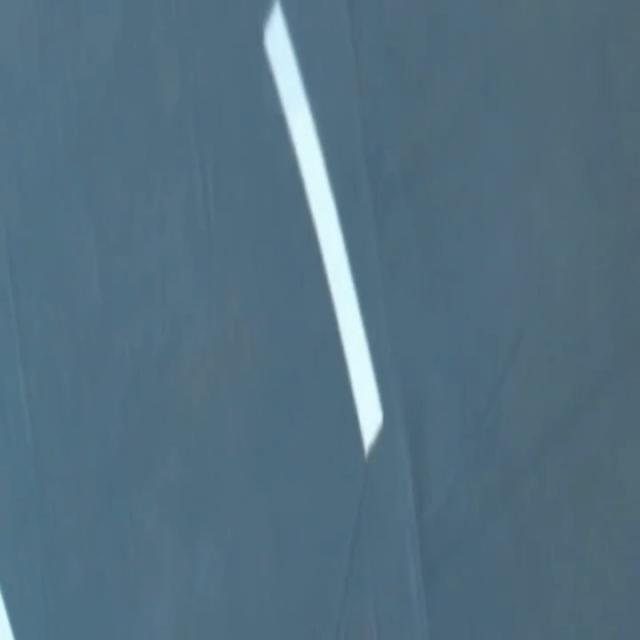center: (264, 0, 382, 455)
left: (0, 590, 14, 639)
